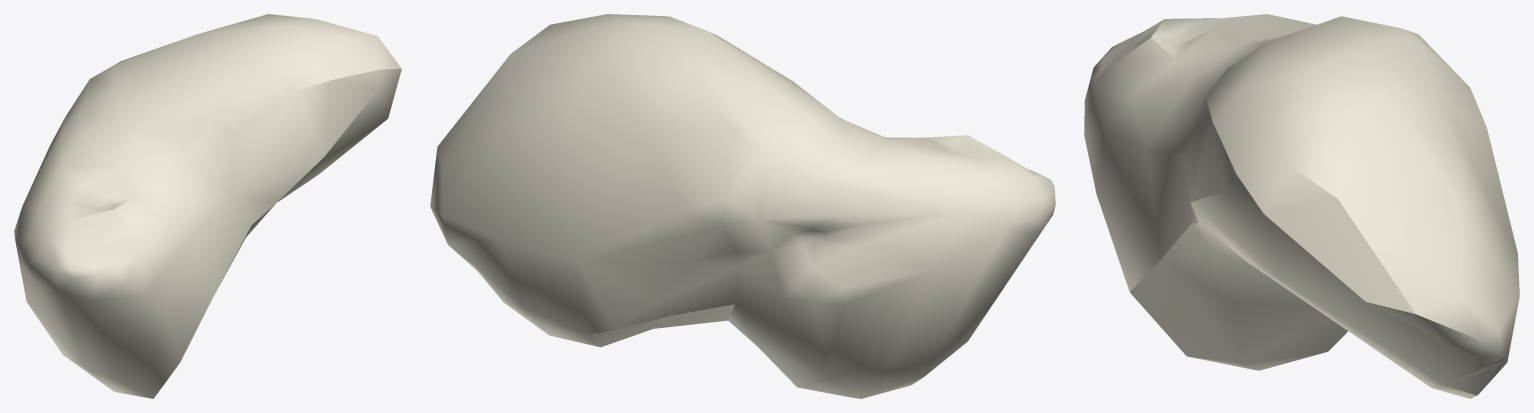
The model's file is fma24435_fj6475.glb.
3 views of the same model, side by side, from view 1: azimuth 30°, elevation 25°; view 2: azimuth 150°, elevation 25°; view 3: azimuth 270°, elevation 25° (orthographic). The views are drawn at different scales.
Parts seen in each view (by area): view 1: FMA24435_FJ6475; view 2: FMA24435_FJ6475; view 3: FMA24435_FJ6475.
Part boxes in pixels (bbox=[...]): FMA24435_FJ6475: bbox=[14, 14, 401, 398]; FMA24435_FJ6475: bbox=[430, 14, 1055, 398]; FMA24435_FJ6475: bbox=[1084, 14, 1519, 398].
Size of the model in its own units: 0.0237 by 0.0154 by 0.0151.
